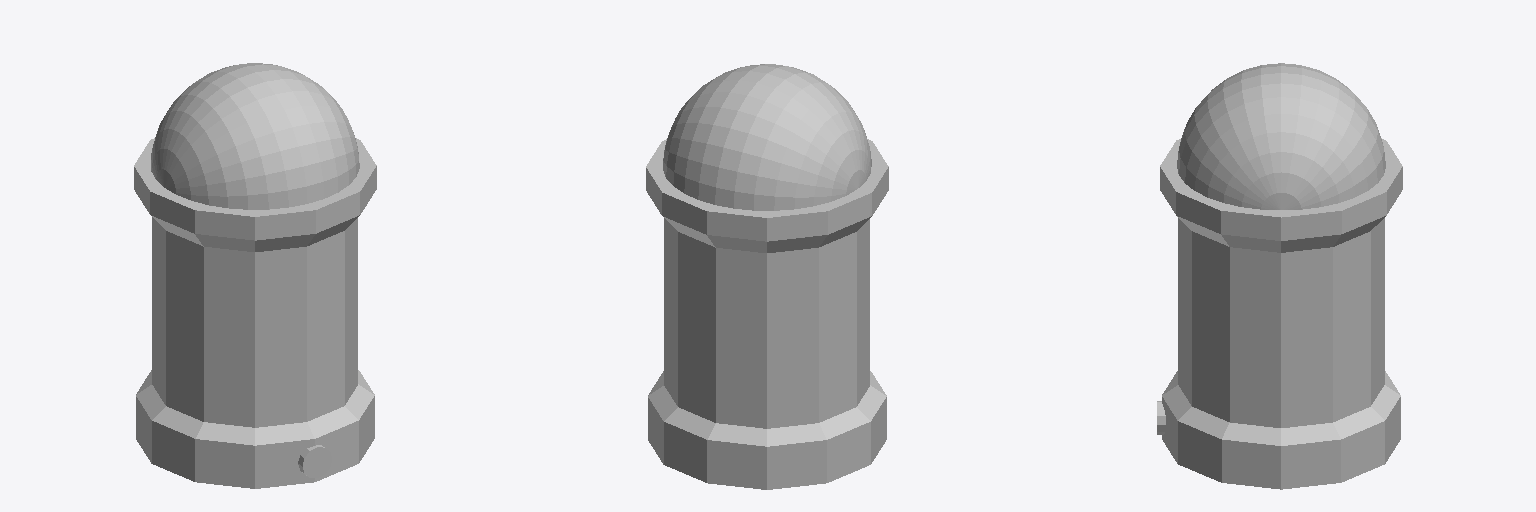
Rendered from Cryo_Tube_ON.obj.
The picture shows the model from 3 angles: view 1: azimuth 30°, elevation 25°; view 2: azimuth 150°, elevation 25°; view 3: azimuth 270°, elevation 25°; orthographic projection.
Visible parts, largest first — view 1: Cryo_Tube_ON; view 2: Cryo_Tube_ON; view 3: Cryo_Tube_ON.
Boxes of the visible parts, x1,y1,x2,y2 form: Cryo_Tube_ON: [134, 63, 376, 488]; Cryo_Tube_ON: [646, 64, 888, 489]; Cryo_Tube_ON: [1157, 63, 1402, 489].
Size of the model in its own units: 2.03 by 3.37 by 2.05.